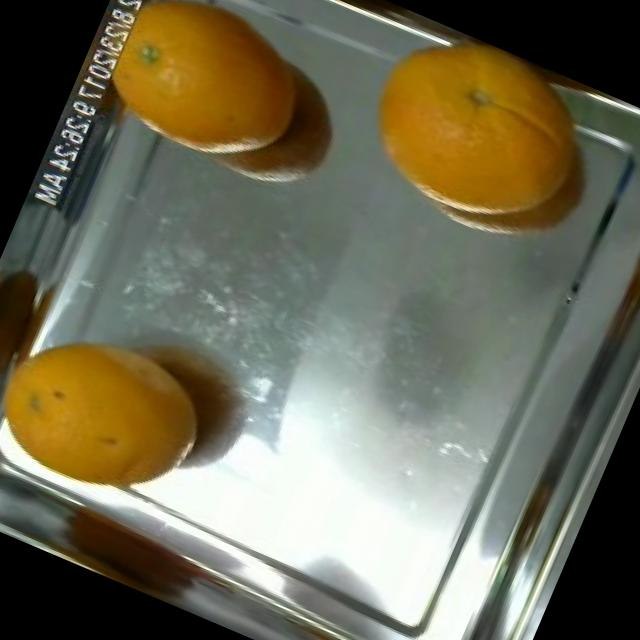Fruit: (74, 0, 350, 196), (0, 288, 226, 524)
